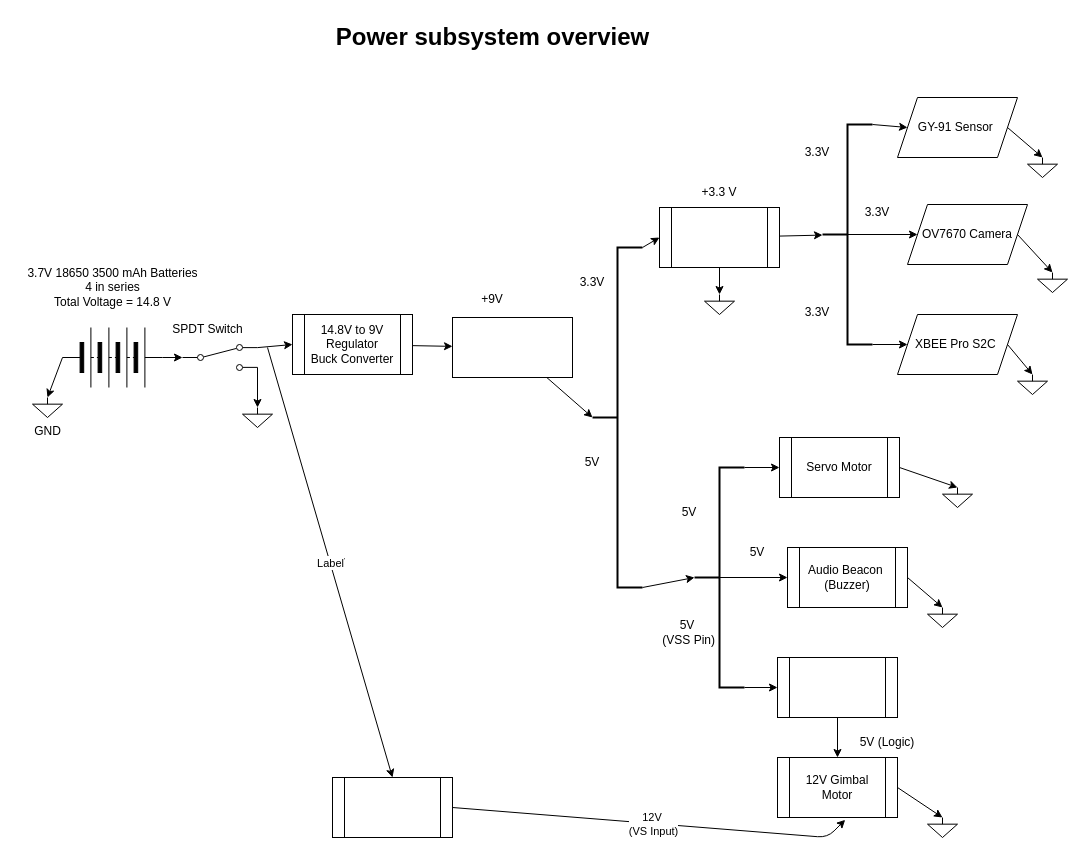
This 1085x863 diagram has some shape labels left out. The box of each missing label's shape, as (x1, y1, x2, y2) in pixels:
14.8V to 12V Buck Converter: (332, 776, 452, 838)
3.3V Voltage Regulator: (658, 206, 780, 268)
Bharat Pi Microcontroller: (452, 316, 572, 378)
L298N Motor Driver: (776, 656, 898, 718)
